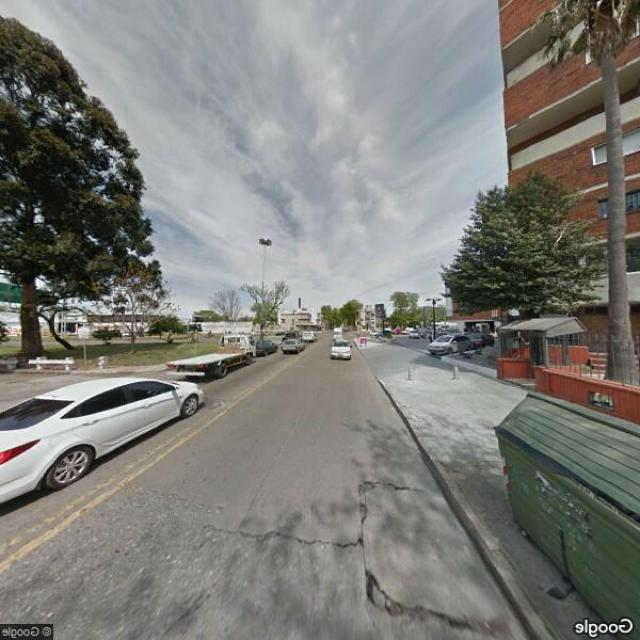garbage container: (480, 378, 639, 640)
